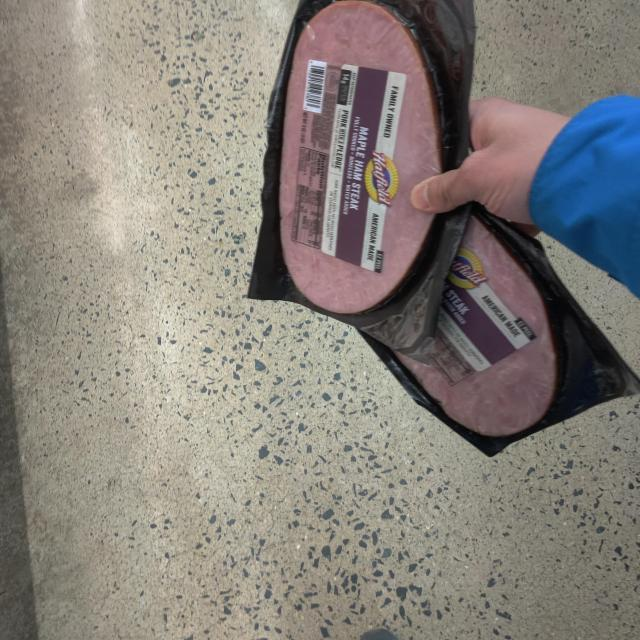Meat: (254, 0, 472, 360), (379, 204, 639, 457)
